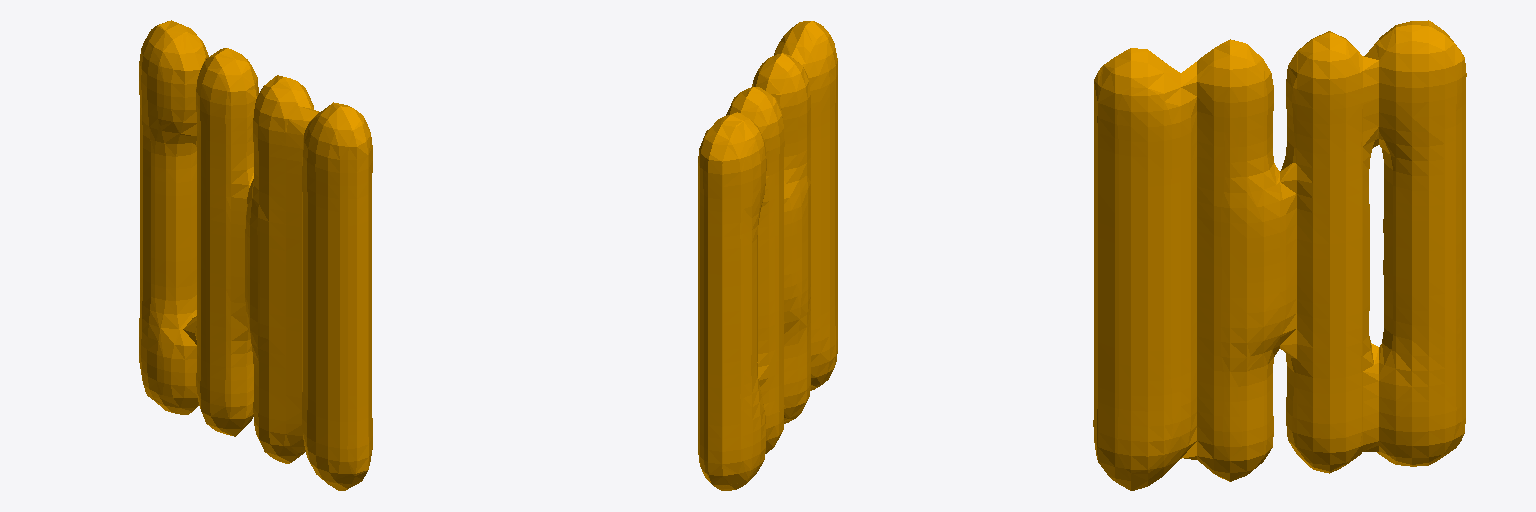
robot.urdf — X13_1:
<?xml version="1.0"?>
<robot name="X13_1">
  <link name="base_link">
    <visual>
      <geometry>
        <mesh filename="../../../../meshes/egad/train/X13_1.obj" />
      </geometry>
    </visual>
  </link>
</robot>

--- Render facts (derived) ---
The picture shows the robot from 3 angles, left to right: view 1: azimuth 30°, elevation 25°; view 2: azimuth 150°, elevation 25°; view 3: azimuth 270°, elevation 25°; orthographic projection.
Model X13_1 with 1 links and 0 joints (none), rooted at base_link, posed all joints at 0.
Links seen in each view (by area): view 1: base_link; view 2: base_link; view 3: base_link.
Link boxes in pixels (x1,y1,x2,y2): base_link: (139,20,372,490); base_link: (698,21,837,490); base_link: (1093,20,1466,490).
Bounding box of the posed robot: 0.0206 × 0.0574 × 0.075 m (x, y, z).
Meshes: 1 distinct files referenced, 1 mesh visuals loaded (1 OBJ).